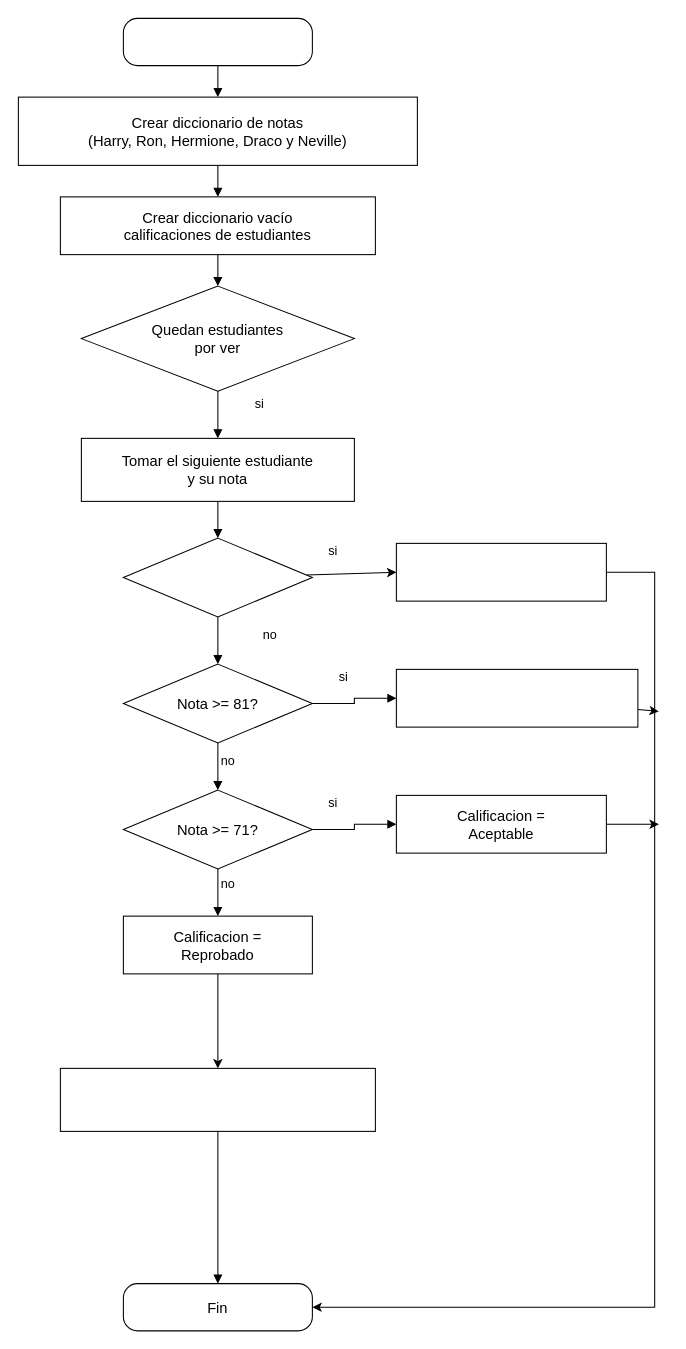
This 686x1349 diagram has some shape labels left out. Here are the shapes that lost their labels. From the top down, the centre of each, then its label:
At (217,41): "Inicio".
At (217,577): "Nota >= 91?".
At (500,571): "Calificacio n = Sobresaliente".
At (516,697): "Calificacion = Supera las expectativas".
At (217,1099): "Mostrar las calificaciones de todos los estudiantes".
